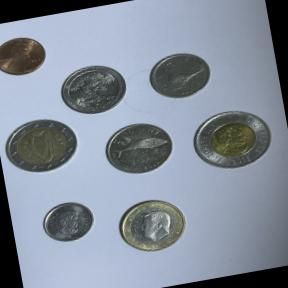1 Euro-B: (104, 186, 198, 262)
2 Euro-B: (0, 110, 84, 183)
Canada-10cent-B: (34, 195, 104, 254)
Canada-2Dollar-B: (182, 94, 286, 182)
Croatia-2Kune-B: (94, 112, 186, 188)
US-1cent-B: (0, 25, 55, 88)
US-25cent-B: (52, 56, 136, 122)
